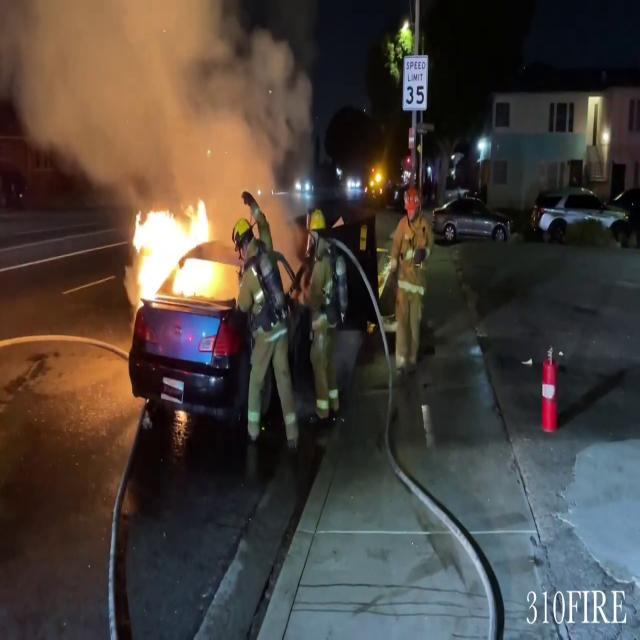Fire: (122, 194, 242, 306)
Smoke: (0, 1, 321, 192)
